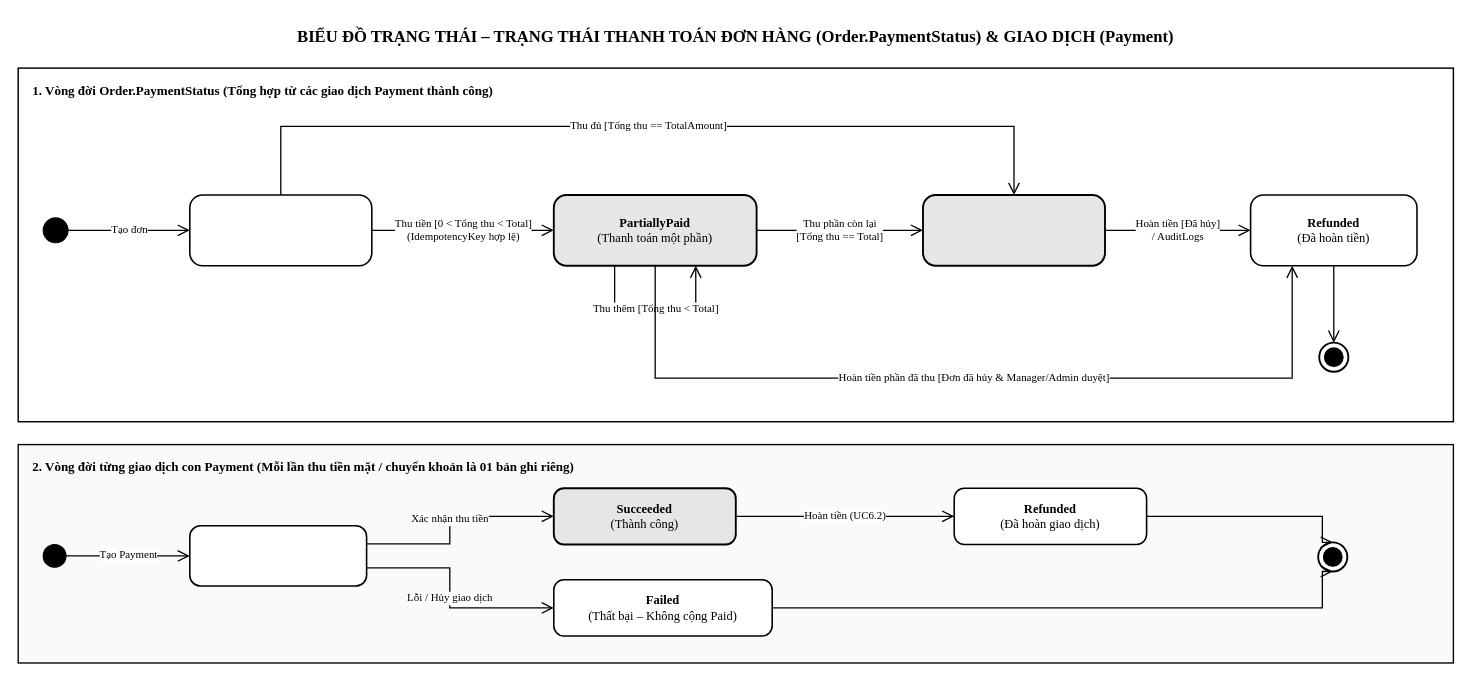
Some shapes in this 1473 by 681 pixel diagram are drawn without their labels. The shapes that lost their labels are listed below. From the top down, each one's centre as x and y in pixels, then its label:
(280,230): Unpaid (Chưa thanh toán)
(1013,230): Paid (Đã thanh toán đủ)
(278,555): Pending (Đang xử lý)
